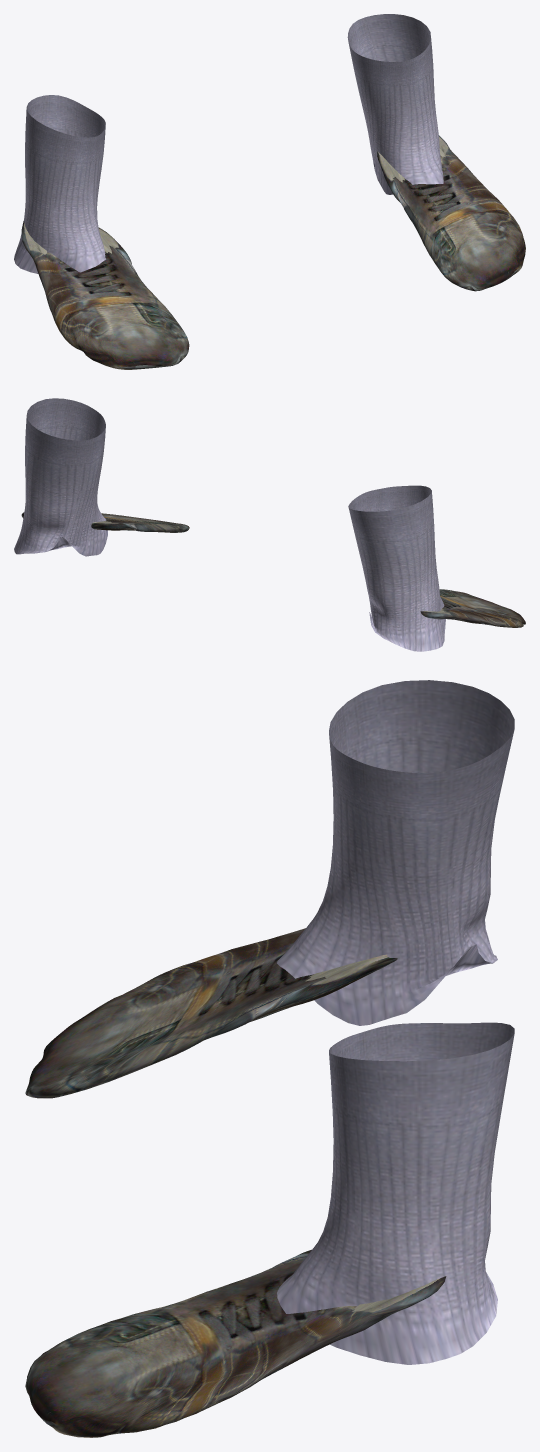
File: shoes.glb
The picture shows the model from 3 angles, top to bottom: view 1: azimuth 30°, elevation 25°; view 2: azimuth 150°, elevation 25°; view 3: azimuth 270°, elevation 25°; orthographic projection. The views are drawn at different scales.
Parts seen in each view (by area): view 1: shoes; view 2: shoes; view 3: shoes.
Boxes of the visible parts, x1,y1,x2,y2 form: shoes: [14, 14, 525, 369]; shoes: [14, 398, 525, 651]; shoes: [25, 680, 514, 1437].
Size of the model in its own units: 0.5818 by 0.2279 by 0.2709.
Materials: 1 (1 with a texture image).
